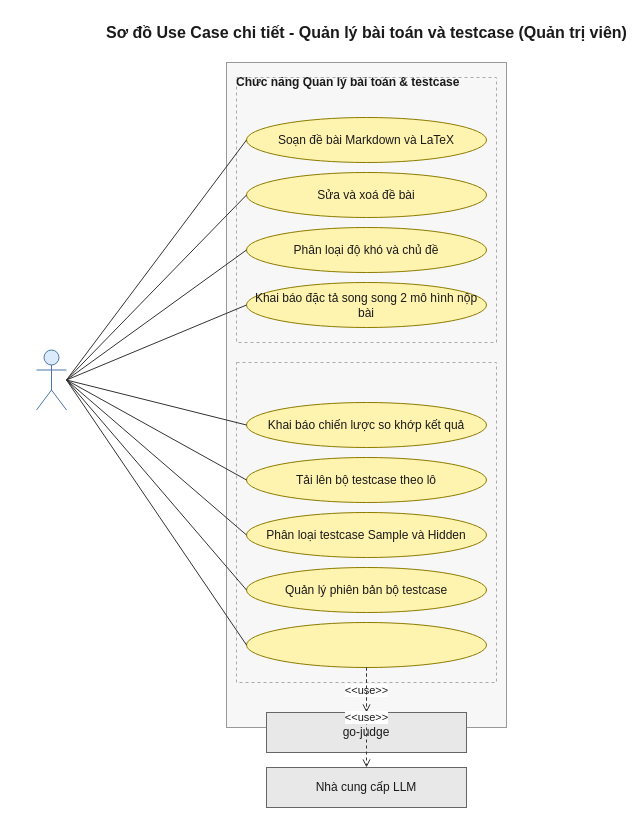
This 644x825 diagram has some shape labels left out. Each missing label, with the box of its shape:
Quản lý testcase (F2-05→09, F2-14): (236, 362, 496, 682)
Quản trị viên: (36, 349, 66, 410)
Sinh testcase tự động bằng AI: (246, 622, 486, 668)
Soạn đề bài (F2-01→04): (236, 76, 496, 342)
